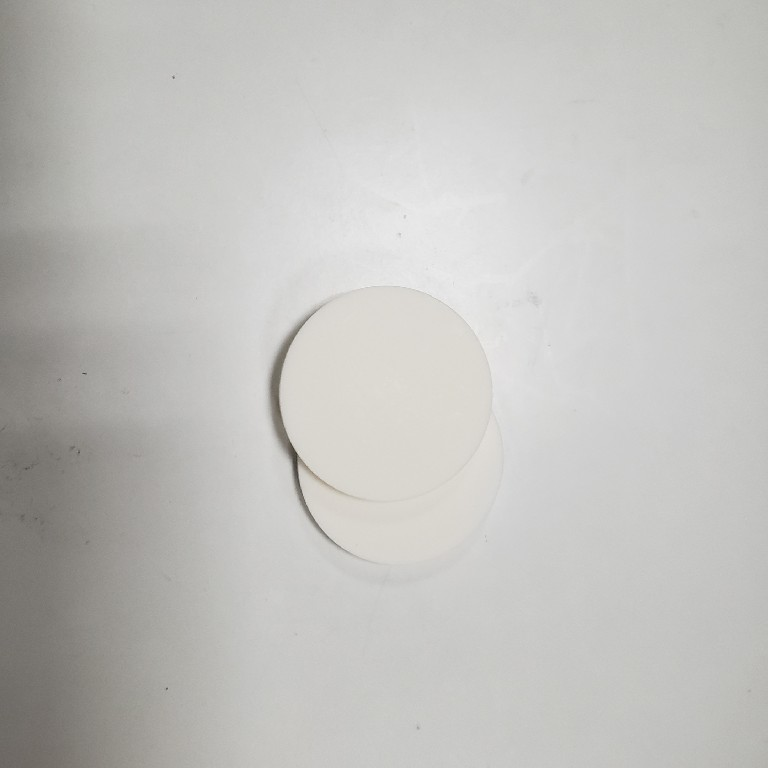ceramics: (267, 282, 507, 576)
